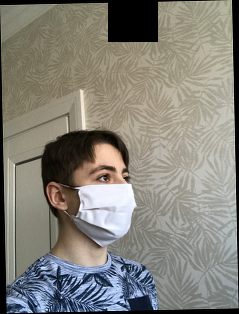with_mask: (75, 157, 137, 251)
